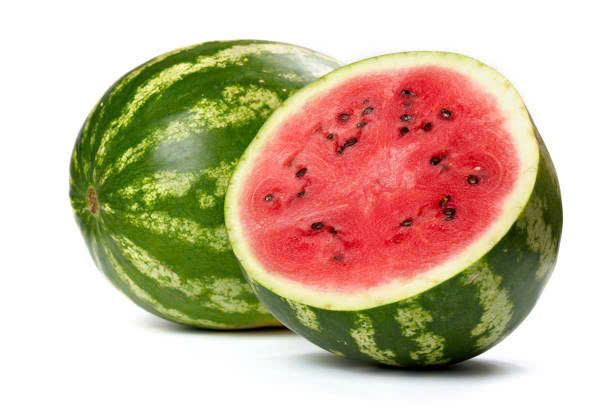watermelon: (232, 52, 563, 365)
